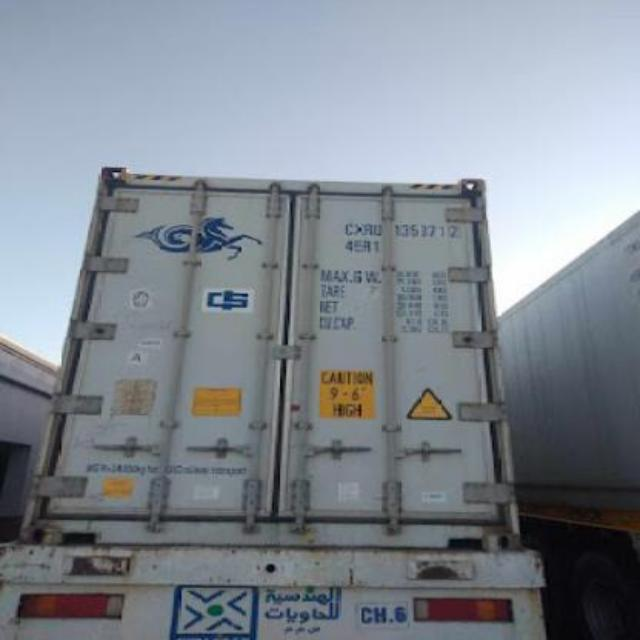1: (436, 225, 446, 241), (394, 222, 400, 238)
2: (450, 225, 462, 241)
3: (402, 224, 410, 240), (420, 224, 428, 238)
5: (410, 224, 420, 238)
7: (430, 224, 436, 238)
C: (344, 223, 354, 235)
R: (364, 224, 372, 236)
U: (376, 224, 384, 236)
X: (356, 222, 364, 234)
